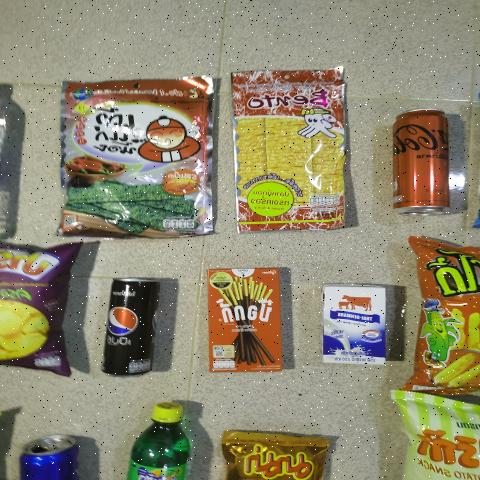bento_red: (230, 68, 351, 226)
coke_red: (392, 116, 453, 214)
pepsi_black: (96, 278, 166, 380)
pokki: (207, 269, 281, 376)
taokaenoi: (60, 79, 208, 234)
thai_denmark: (320, 283, 390, 361)
